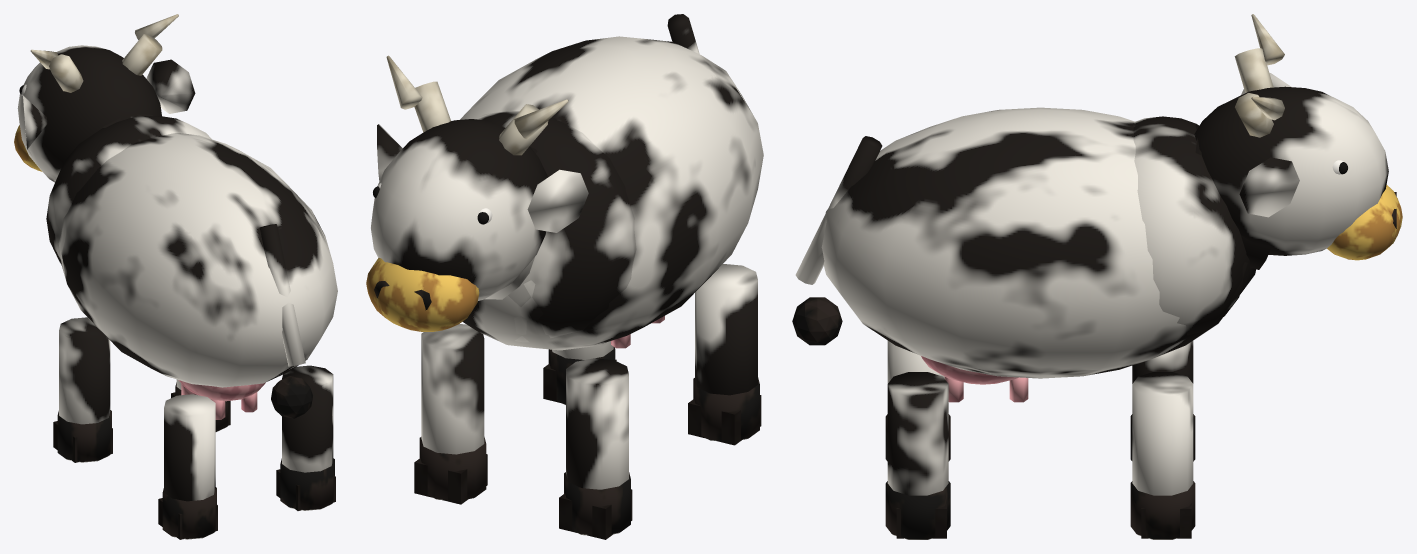
The model's file is cow.glb.
The picture shows the model from 3 angles, left to right: view 1: azimuth 30°, elevation 25°; view 2: azimuth 150°, elevation 25°; view 3: azimuth 270°, elevation 25°; orthographic projection. The views are drawn at different scales.
Visible parts, largest first — view 1: cow; view 2: cow; view 3: cow.
Part boxes in pixels (x1,y1,x2,y2): cow: (14,14,337,539); cow: (366,14,763,539); cow: (792,14,1402,539).
Size of the model in its own units: 0.7854 by 1.35 by 1.7.
Materials: 8 (8 with a texture image).
